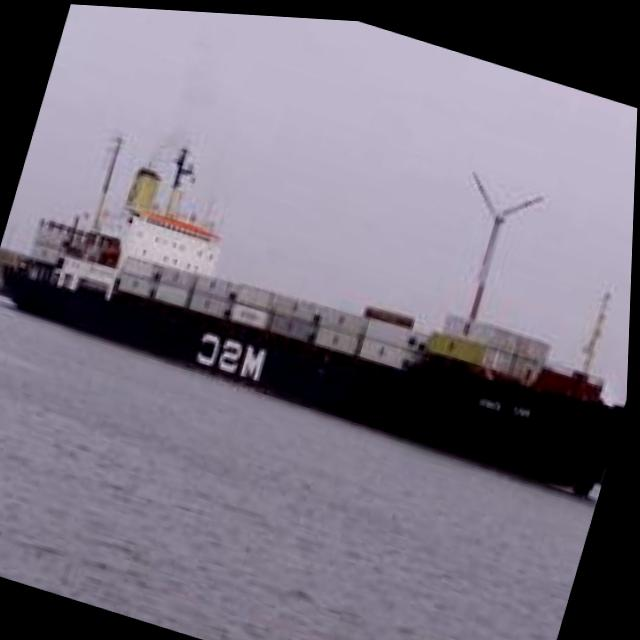ship2: (0, 148, 625, 495)
